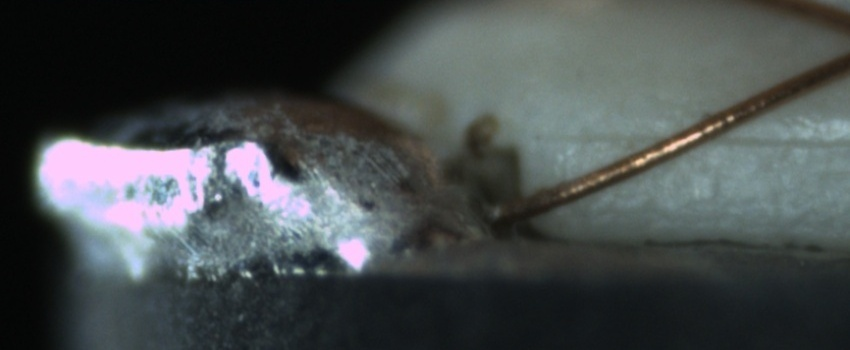DL: (546, 108, 846, 169)
